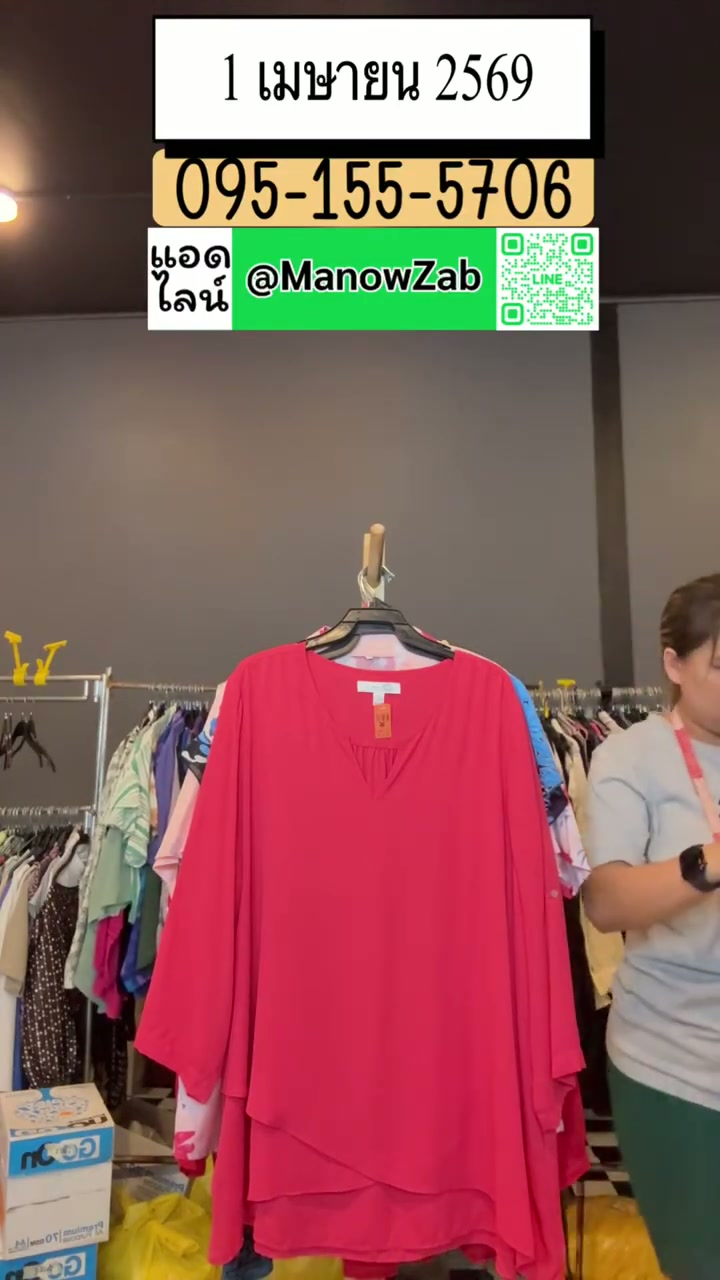display_shirt: (139, 606, 584, 1279)
